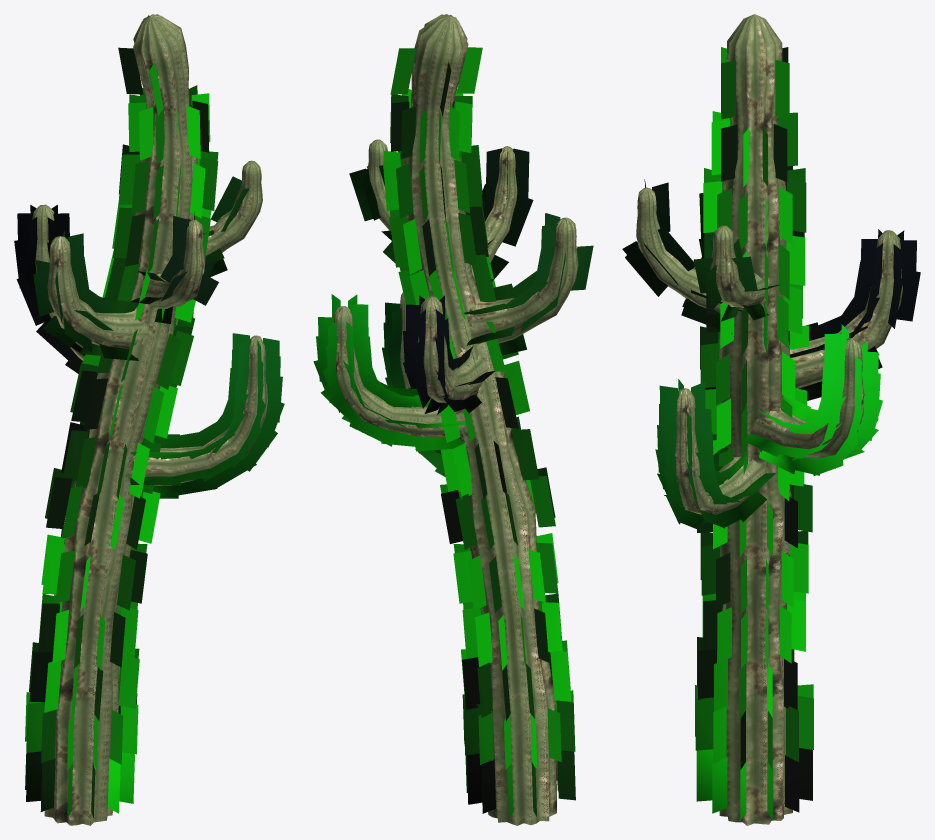
Rendered from cactus1.fbx.
3 renders of one model, left to right at view 1: azimuth 30°, elevation 25°; view 2: azimuth 150°, elevation 25°; view 3: azimuth 270°, elevation 25°, orthographic. The views are drawn at different scales.
Visible parts, largest first — view 1: Tree_1, Tree_0; view 2: Tree_1, Tree_0; view 3: Tree_1, Tree_0.
Part boxes in pixels (x1,y1,x2,y2): Tree_1: (14, 47, 284, 817); Tree_0: (32, 14, 267, 825); Tree_1: (313, 47, 593, 818); Tree_0: (332, 14, 578, 825); Tree_1: (622, 47, 920, 820); Tree_0: (636, 14, 902, 825).
Size of the model in its own units: 72.92 by 226 by 73.38.
Materials: 1 (1 with a texture image).
